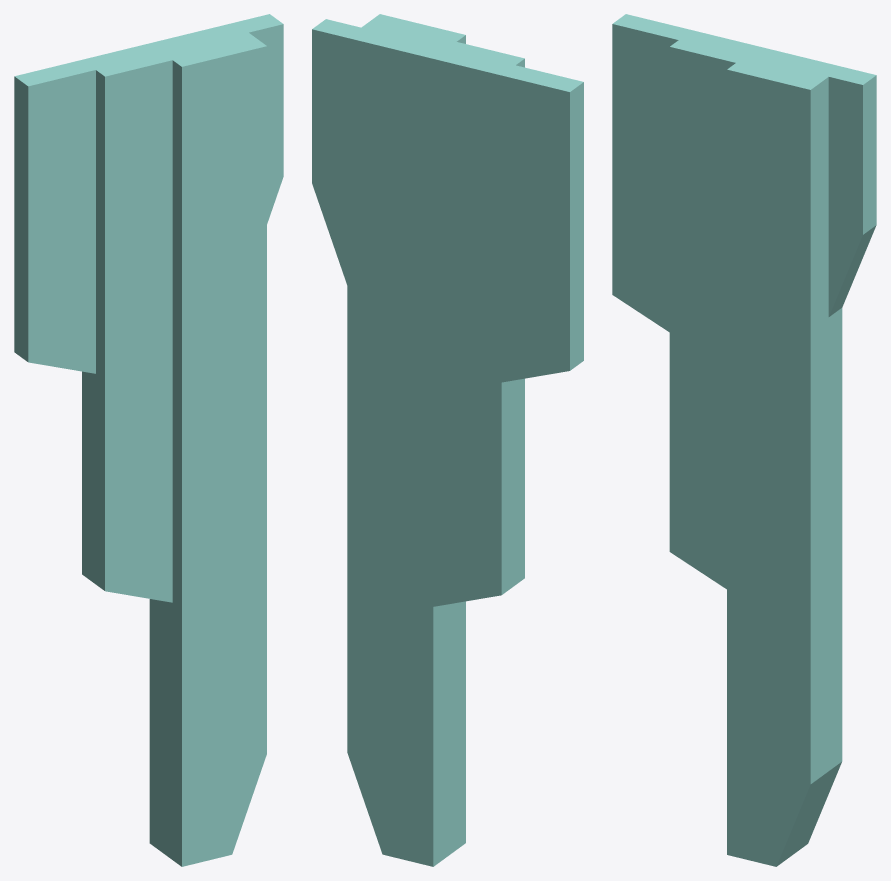
The model's file is hanging_moss.glb.
3 views of the same model, side by side, from view 1: azimuth 30°, elevation 25°; view 2: azimuth 150°, elevation 25°; view 3: azimuth 330°, elevation 25° (orthographic). The views are drawn at different scales.
Visible parts, largest first — view 1: hanging_moss; view 2: hanging_moss; view 3: hanging_moss.
Part boxes in pixels (bbox=[...]): hanging_moss: bbox=[14, 14, 283, 866]; hanging_moss: bbox=[312, 14, 583, 866]; hanging_moss: bbox=[612, 14, 876, 866].
Size of the model in its own units: 0.1598 by 0.4785 by 0.035.
